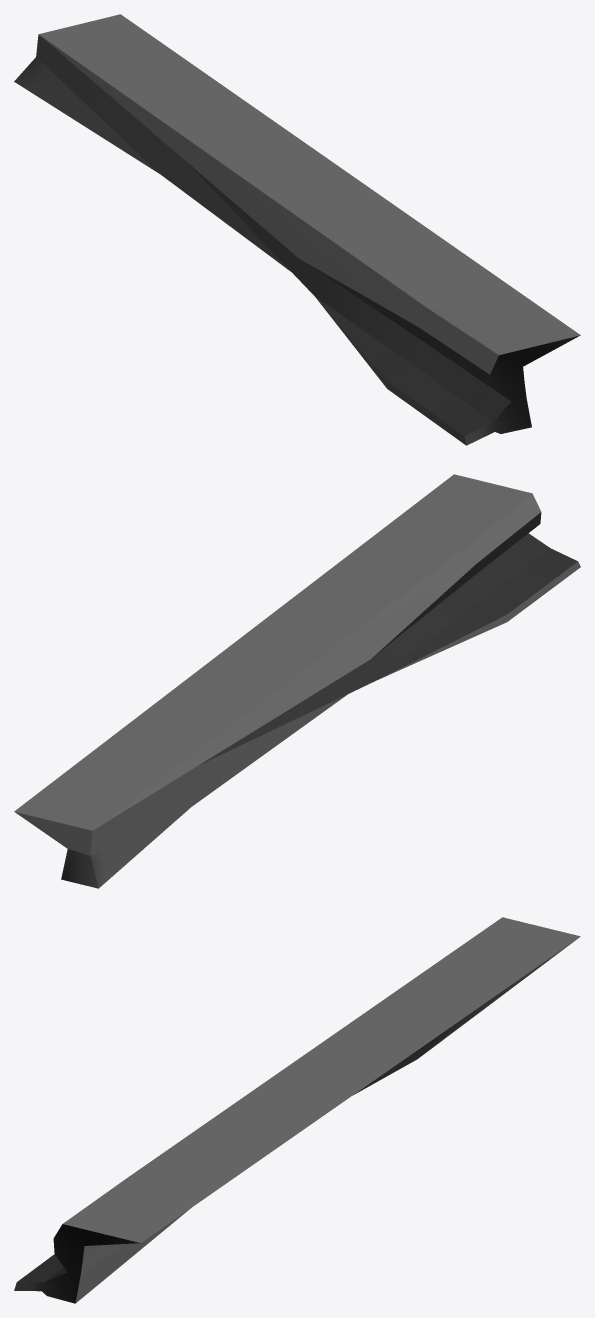
The model's file is Muscle_1_Sidepanel_3_L.fbx.
The picture shows the model from 3 angles, top to bottom: view 1: azimuth 30°, elevation 25°; view 2: azimuth 150°, elevation 25°; view 3: azimuth 330°, elevation 25°; orthographic projection. The views are drawn at different scales.
Parts seen in each view (by area): view 1: Muscle_1_Sidepanel_3_L; view 2: Muscle_1_Sidepanel_3_L; view 3: Muscle_1_Sidepanel_3_L.
Boxes of the visible parts, bbox=[...] form: Muscle_1_Sidepanel_3_L: bbox=[14, 14, 580, 445]; Muscle_1_Sidepanel_3_L: bbox=[14, 474, 580, 888]; Muscle_1_Sidepanel_3_L: bbox=[14, 917, 580, 1303].
Bounding box in the file's own units: 10.95 × 6.37 × 72.86.
